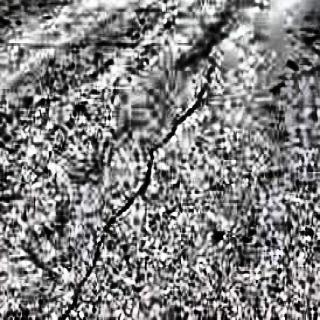alligator-crack: (55, 136, 166, 318)
crack: (177, 11, 235, 72), (168, 76, 211, 132)
pothole: (67, 101, 94, 133), (284, 23, 320, 44), (111, 70, 137, 93)
